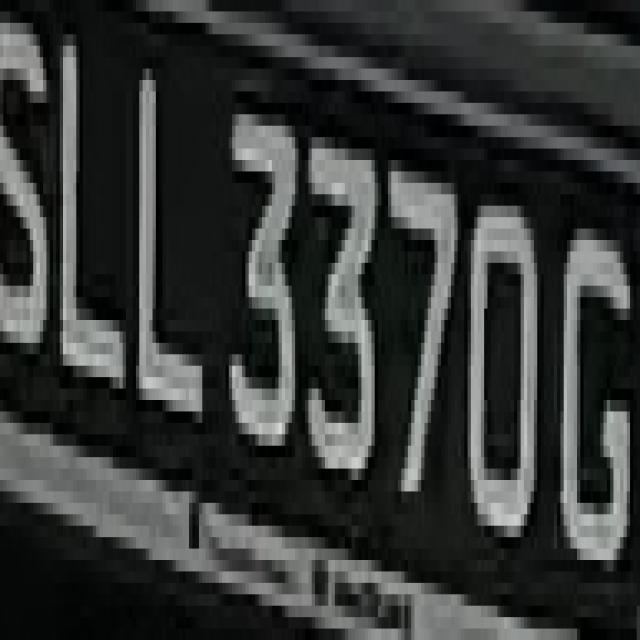0: (461, 206, 534, 571)
3: (215, 46, 308, 503), (302, 91, 381, 526)
7: (375, 125, 461, 526)
G: (550, 171, 627, 583)
L: (126, 46, 202, 468), (56, 0, 126, 457)
S: (4, 0, 56, 446)
